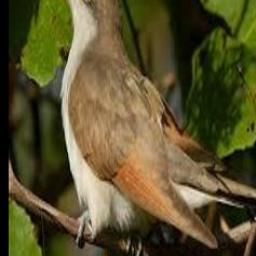Cuckoo: (49, 0, 221, 249)
